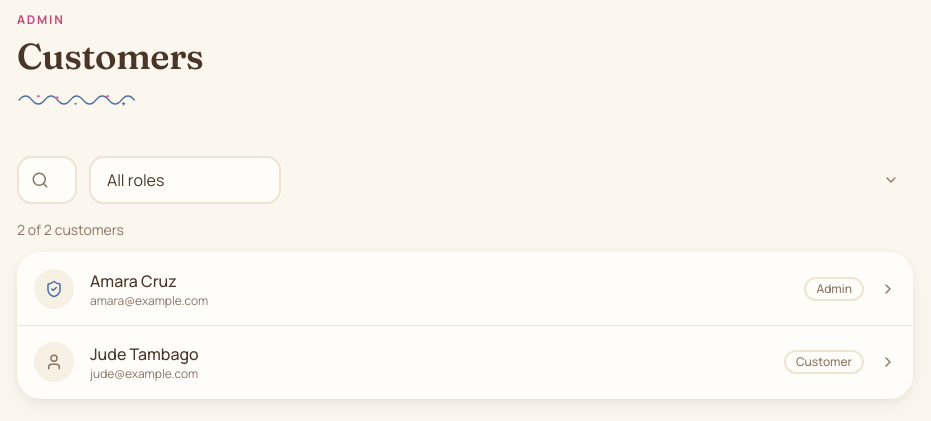
Test: Customers › filters the list by search query
expect the text "2 of 2 customers" is shown: met, box top-left (17, 220), bottom-right (124, 239)
Type "jude" into the search field named "Search customers".
click(47, 180); type("jude")  # box top-left (17, 156), bottom-right (77, 204)
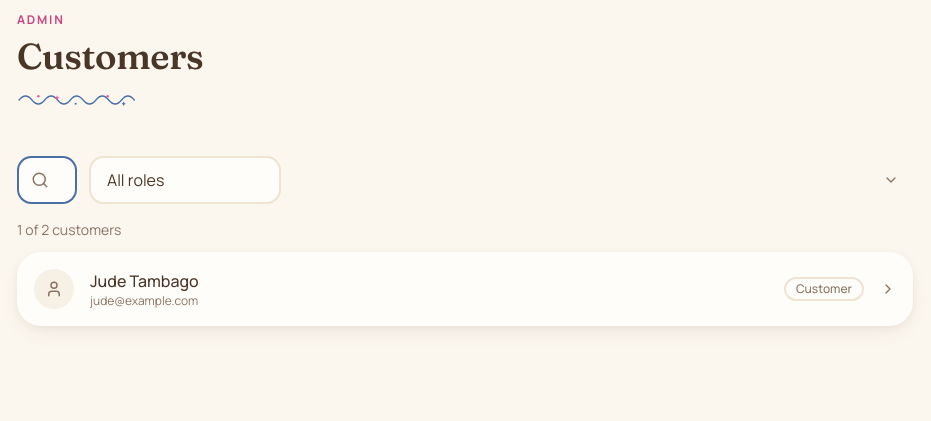
expect the text "Jude Tambago" is shown: met, box top-left (90, 270), bottom-right (199, 292)
expect the text "1 of 2 customers" is shown: met, box top-left (17, 220), bottom-right (121, 239)
expect the link "Amara Cruz" is gone: met
